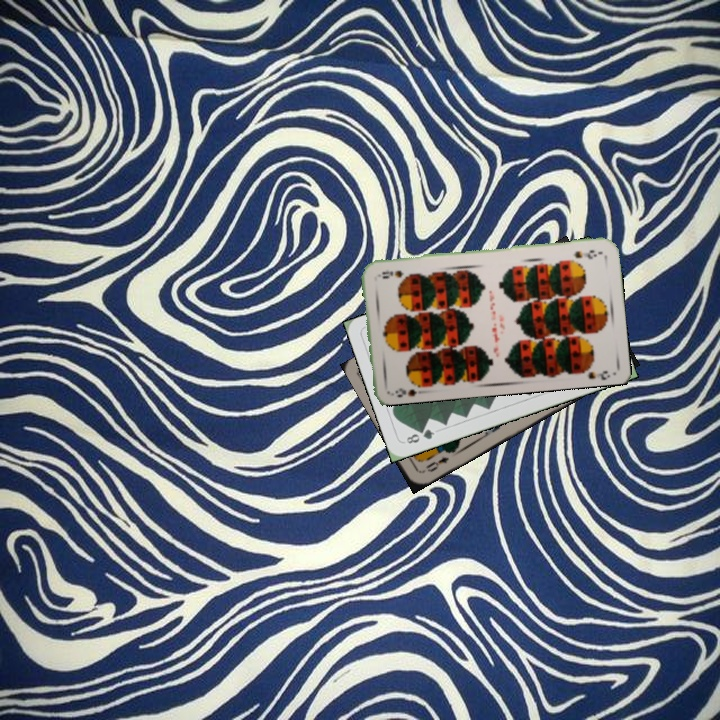EO: (421, 452, 452, 475)
G8: (402, 425, 437, 446)
S9: (391, 378, 426, 400), (569, 246, 604, 261)
